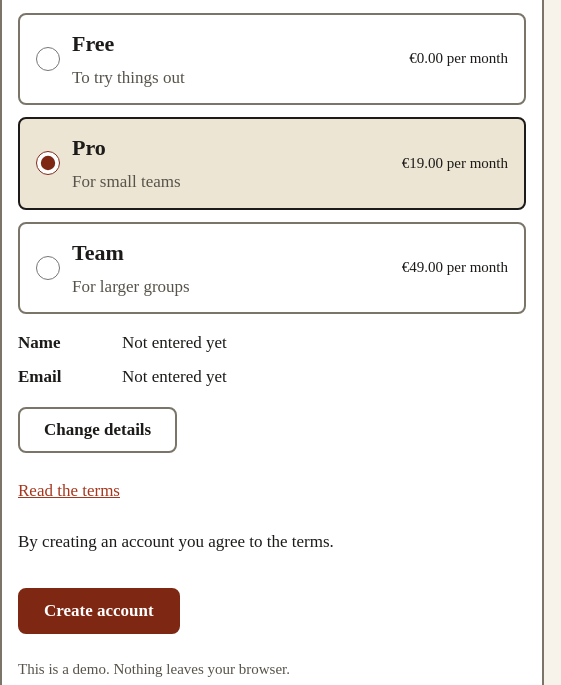
Test: steps loaded directly, without any state › submitting the plan without details sends the user back with a message
(page scrolled)
Click the button "Create account" at {"x": 99, "y": 611}, box [18,588,180,634]
(page scrolled)
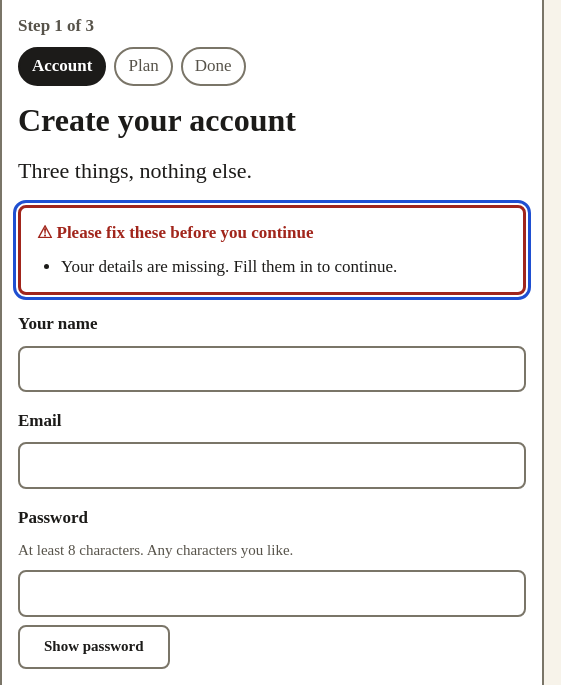
Result: the message shows "Your details are missing. Fill them in to continue." at [61,257,397,276]
Result: the text "Step 1 of 3" is shown at [18,16,94,35]
